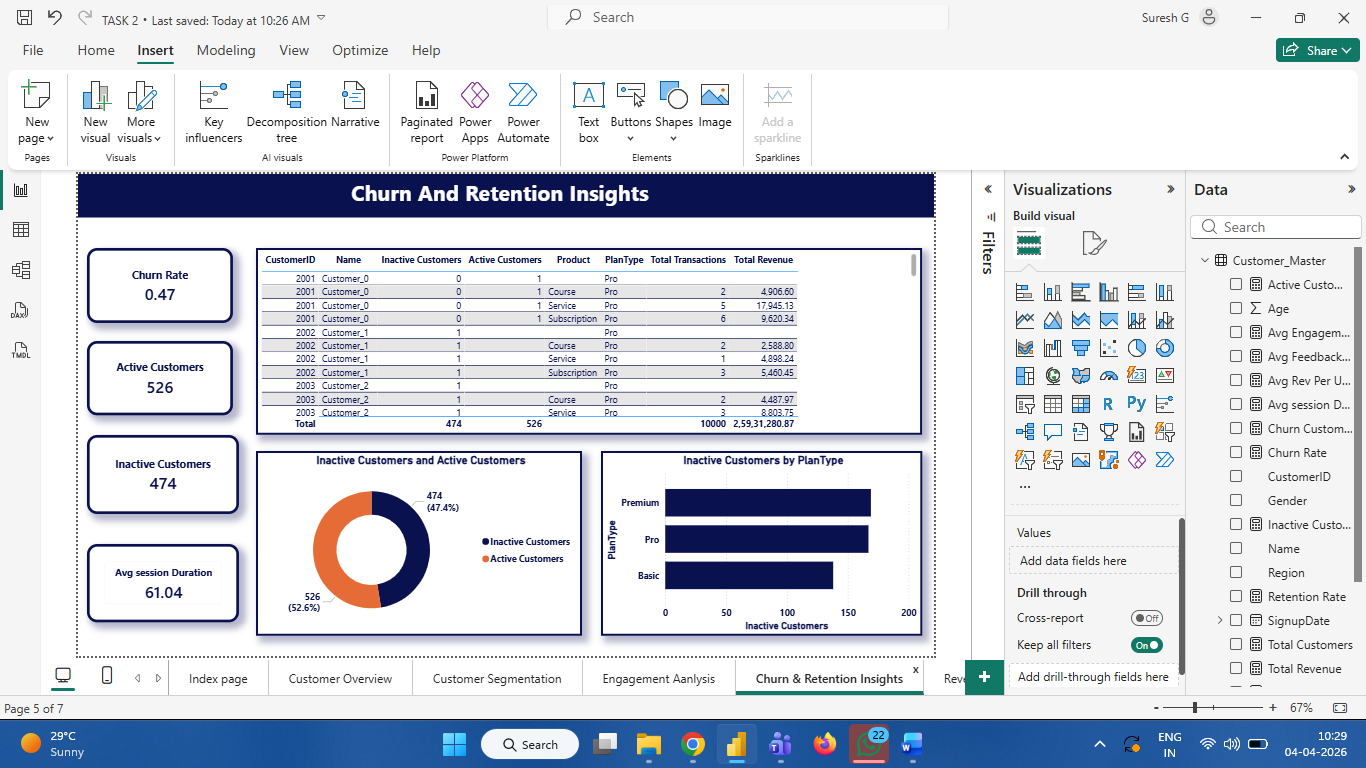

The dashboard page shown, as its layout file describes it:
{"tool":"powerbi","page":{"name":"Churn & Retention Insights","canvas":[1280,720],"ordinal":4},"visuals":[{"type":"textbox","box":[0,0,1280,65],"z":0},{"type":"cardVisual","fields":{"Data":["Customer_Master.Avg Resolution Time"]},"box":[13.4,80.6,226.8,120.9],"z":1000},{"type":"cardVisual","fields":{"Data":["Customer_Master.Active Customers"]},"box":[13.4,223.4,226.8,136.1],"z":2000},{"type":"cardVisual","fields":{"Data":["Customer_Master.Retention Rate"]},"box":[13.4,389.7,226.8,137.7],"z":3000},{"type":"donutChart","fields":{"Y":["Customer_Master.Active Customers","Customer_Master.Inactive Customers"]},"box":[265.9,413.8,487,276.3],"z":4000},{"type":"pieChart","fields":{"Category":["Subscription.PlanType"],"Y":["Customer_Master.Total Customers"]},"box":[781.2,413.8,479.5,276.3],"z":5000},{"type":"tableEx","fields":{"Values":["Customer_Master.CustomerID","Customer_Master.Name","Customer_Master.Inactive Customers","Customer_Master.Active Customers","Transactions.Product","Subscription.PlanType","Customer_Master.Total Transactions","Customer_Master.Total Revenue","Customer_Master.Avg session Duration"]},"box":[265.4,80.6,996.1,309.1],"z":6000},{"type":"cardVisual","fields":{"Data":["Customer_Master.Avg session Duration"]},"box":[13.4,552.7,226.8,137.7],"z":7000},{"type":"actionButton","box":[1160.7,12,100.1,40.3],"z":8000}]}

Visuals, with their boxes on the page's 1280x720 design canvas (x1, y1, x2, y2). These are canvas units, not pixel positions in the 1366x768 screenshot, which may show the page scaled, cropped or inside an application window:
textbox: (0,0,1280,65)
cardVisual - Customer_Master.Avg Resolution Time: (13,81,240,202)
cardVisual - Customer_Master.Active Customers: (13,223,240,360)
cardVisual - Customer_Master.Retention Rate: (13,390,240,527)
donutChart - Customer_Master.Active Customers x Customer_Master.Inactive Customers: (266,414,753,690)
pieChart - Subscription.PlanType x Customer_Master.Total Customers: (781,414,1261,690)
tableEx - Customer_Master.CustomerID x Customer_Master.Name: (265,81,1262,390)
cardVisual - Customer_Master.Avg session Duration: (13,553,240,690)
actionButton: (1161,12,1261,52)
